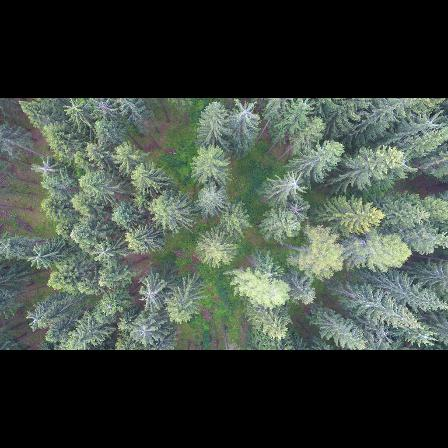Sick: (136, 278, 165, 311), (130, 319, 164, 347), (230, 98, 263, 124), (282, 198, 309, 224), (32, 156, 59, 182), (91, 237, 118, 262), (284, 169, 308, 196), (88, 98, 115, 118)
